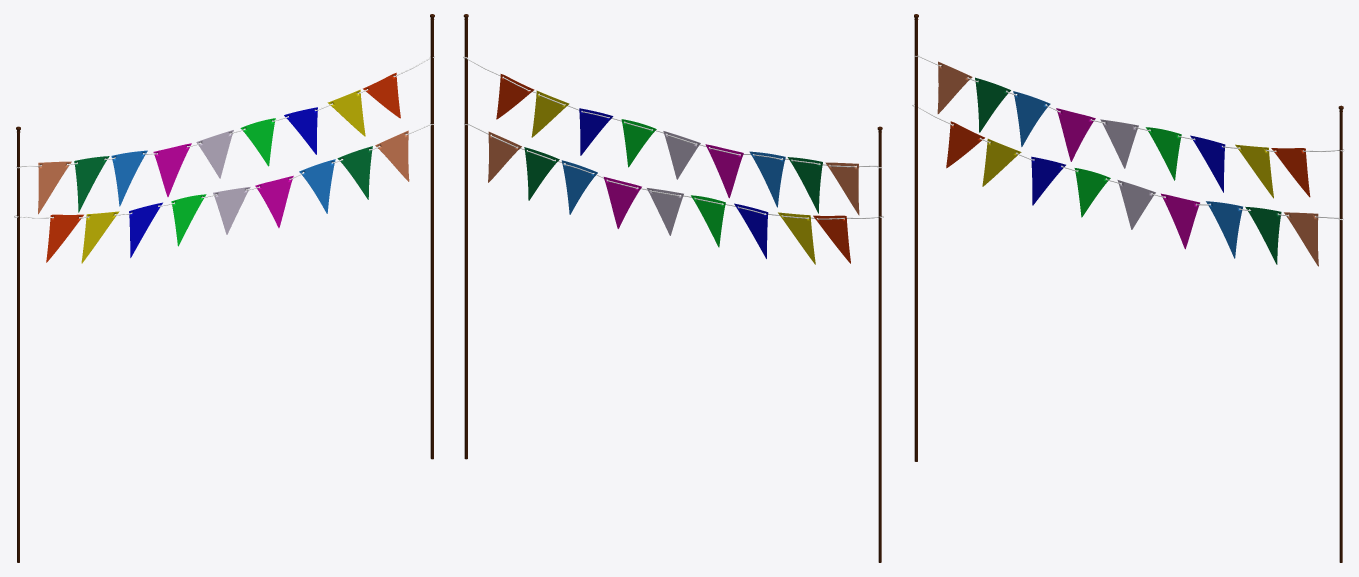
Rendered from colorful_festival_bunting_banner.glb.
The picture shows the model from 3 angles, left to right: view 1: azimuth 30°, elevation 25°; view 2: azimuth 150°, elevation 25°; view 3: azimuth 330°, elevation 25°; orthographic projection. The views are drawn at different scales.
Parts seen in each view (by area): view 1: Flags.001, Flags.002, pole.001, pole; view 2: Flags.002, Flags.001, pole.001, pole, string.002, string.001; view 3: Flags.002, Flags.001, pole.001, pole.
Boxes of the visible parts, x1,y1,x2,y2 form: Flags.001: [46, 130, 409, 263]; Flags.002: [38, 72, 400, 214]; pole.001: [430, 14, 434, 459]; pole: [16, 126, 20, 562]; Flags.002: [496, 74, 859, 215]; Flags.001: [488, 131, 850, 264]; pole.001: [463, 14, 468, 459]; pole: [877, 126, 882, 562]; string.002: [463, 56, 881, 168]; string.001: [464, 123, 883, 219]; Flags.002: [937, 61, 1310, 198]; Flags.001: [946, 121, 1318, 266]; pole.001: [1338, 105, 1343, 562]; pole: [914, 14, 918, 461].
Bounding box in the file's own units: 1.8 × 1.82 × 0.0212.
